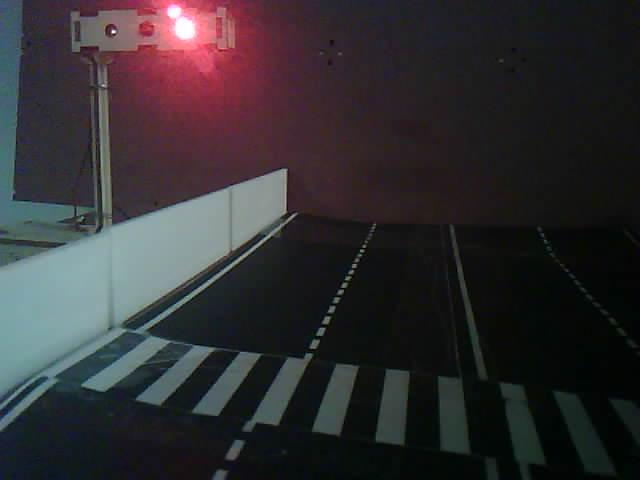crosswalk: (50, 316, 640, 480)
red: (62, 0, 249, 237)
